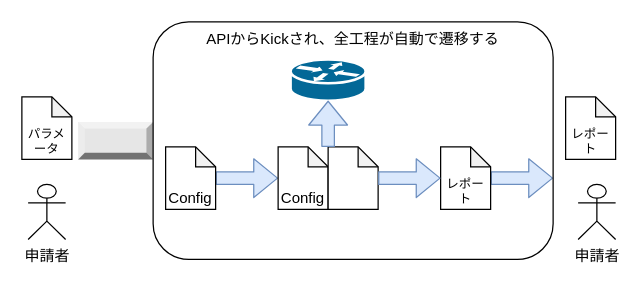
This 641x288 diagram has some shape labels left out. Here are the shapes that lost their labels. From the top down, the centre of each, then its label:
At [115,140]: "Submit".
At [352,177]: "Code".
